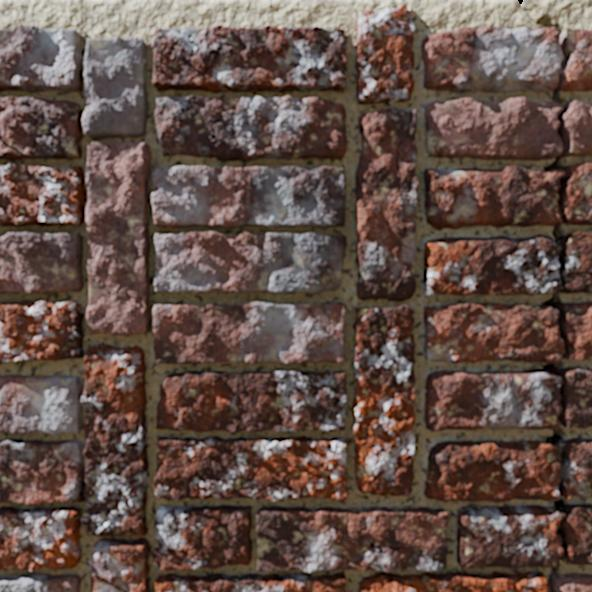brick: (0, 344, 147, 591), (0, 142, 149, 334), (0, 25, 147, 159), (152, 25, 345, 92), (154, 436, 347, 500), (257, 507, 447, 572), (155, 96, 345, 161), (156, 370, 346, 432), (152, 166, 345, 227), (153, 302, 345, 363), (356, 108, 417, 300), (353, 305, 414, 496), (155, 232, 345, 293), (154, 506, 250, 570), (356, 6, 414, 103), (0, 302, 83, 363), (0, 232, 83, 292), (359, 572, 548, 591), (155, 574, 344, 591), (90, 538, 149, 591), (543, 574, 591, 591)
broken_brick: (421, 25, 561, 93), (423, 165, 563, 230), (423, 96, 562, 161), (423, 301, 563, 363), (423, 440, 560, 503), (422, 233, 559, 296), (424, 368, 560, 431), (456, 504, 563, 569), (560, 27, 591, 92), (560, 231, 591, 293), (561, 366, 591, 429), (563, 161, 591, 225), (562, 301, 591, 361), (564, 437, 591, 499), (563, 99, 591, 157), (565, 503, 591, 562)
crack: (517, 0, 591, 591), (295, 373, 314, 403), (327, 372, 340, 412), (320, 304, 331, 337), (0, 458, 14, 466), (423, 276, 435, 285), (337, 180, 344, 188), (340, 302, 346, 308), (423, 263, 429, 267)
